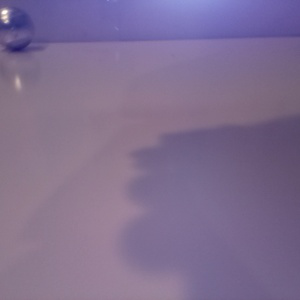alive_ball: (1, 6, 34, 50)
